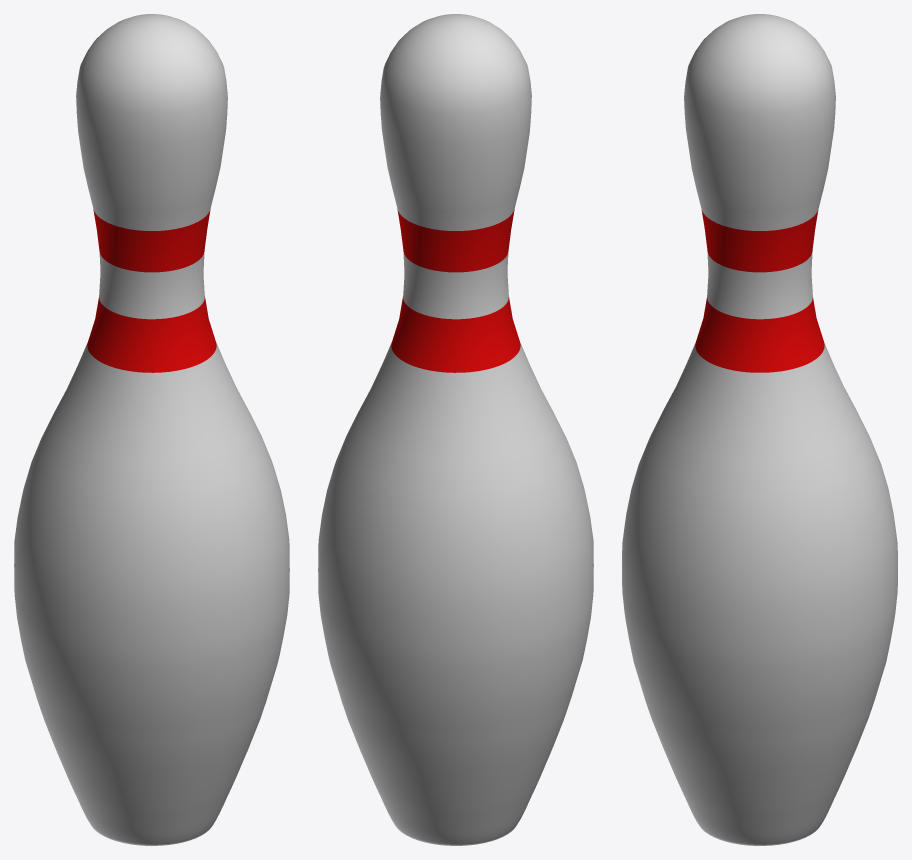
File: bowlingPinFinalBetter.fbx
3 renders of one model, left to right at view 1: azimuth 30°, elevation 25°; view 2: azimuth 150°, elevation 25°; view 3: azimuth 270°, elevation 25°, orthographic.
Parts seen in each view (by area): view 1: Sphere_001; view 2: Sphere_001; view 3: Sphere_001.
Boxes of the visible parts, x1=… form: Sphere_001: x1=14, y1=14, x2=289, y2=845; Sphere_001: x1=318, y1=14, x2=593, y2=845; Sphere_001: x1=622, y1=14, x2=897, y2=845.
Size of the model in its own units: 2.86 by 9.17 by 2.87.
